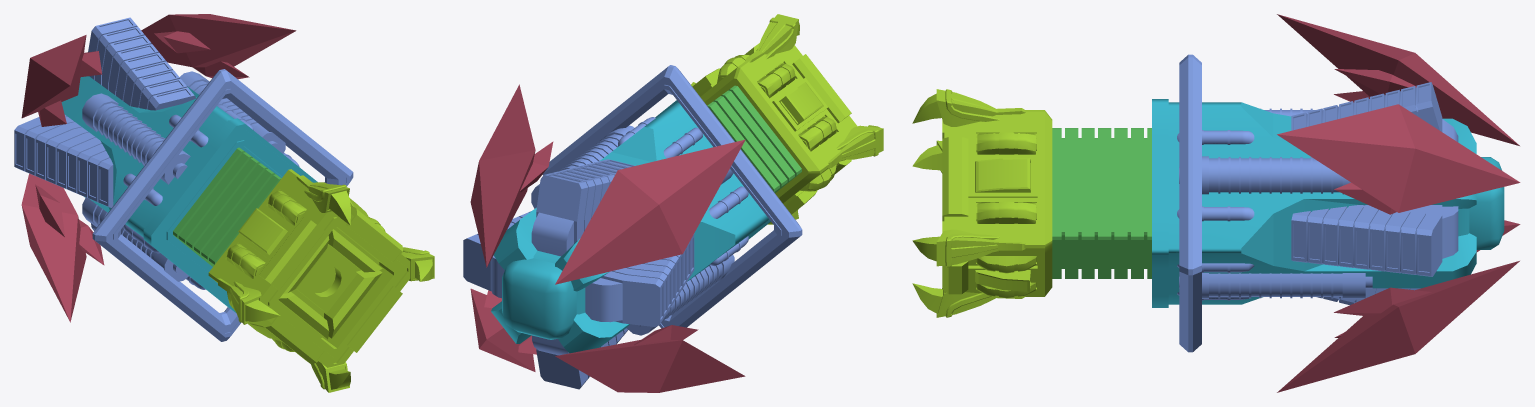
Rendered from Fbx_Boss_BFL_V4.fbx.
The picture shows the model from 3 angles, left to right: view 1: azimuth 30°, elevation 25°; view 2: azimuth 150°, elevation 25°; view 3: azimuth 270°, elevation 25°; orthographic projection. The views are drawn at different scales.
Visible parts, largest first — view 1: Body_Base, Hoop, Head_Base, Neck_Base, Battery_C, Battery_B, pCube78, pCube83, pCube55, pCylinder3, pCube82, Head_Bar_Center (+22 smaller); view 2: pCube82, Body_Base, Hoop, pCube83, pCube78, Head_Base, Battery_C, Battery_B, Body_Butt, Neck_Base, pCube55, pCube84 (+18 smaller); view 3: Body_Base, Neck_Base, pCube78, Battery_A, pCube84, Head_Base, Hoop, pCube82, pCube54, pCylinder1, pCylinder5, Battery_B (+16 smaller).
Boxes of the visible parts, x1=… form: Body_Base: x1=61, y1=76, x2=317, y2=312; Hoop: x1=92, y1=69, x2=353, y2=341; Head_Base: x1=208, y1=169, x2=410, y2=367; Neck_Base: x1=173, y1=147, x2=281, y2=266; Battery_C: x1=14, y1=115, x2=113, y2=207; Battery_B: x1=88, y1=17, x2=196, y2=110; pCube78: x1=141, y1=14, x2=296, y2=67; pCube83: x1=21, y1=173, x2=86, y2=322; pCube55: x1=238, y1=207, x2=325, y2=290; pCylinder3: x1=82, y1=93, x2=190, y2=184; pCube82: x1=21, y1=35, x2=86, y2=118; Head_Bar_Center: x1=296, y1=249, x2=356, y2=312; pCube82: x1=555, y1=139, x2=745, y2=284; Body_Base: x1=491, y1=100, x2=770, y2=353; Hoop: x1=542, y1=65, x2=802, y2=328; pCube83: x1=555, y1=340, x2=745, y2=392; pCube78: x1=470, y1=84, x2=535, y2=267; Head_Base: x1=700, y1=45, x2=857, y2=203; Battery_C: x1=585, y1=234, x2=694, y2=326; Battery_B: x1=531, y1=159, x2=634, y2=256; Body_Butt: x1=502, y1=258, x2=576, y2=339; Neck_Base: x1=707, y1=85, x2=801, y2=192; pCube55: x1=772, y1=54, x2=851, y2=131; pCube84: x1=470, y1=288, x2=535, y2=371; Body_Base: x1=1152, y1=99, x2=1476, y2=307; Neck_Base: x1=1052, y1=128, x2=1151, y2=278; pCube78: x1=1277, y1=104, x2=1520, y2=212; Battery_A: x1=1291, y1=205, x2=1458, y2=276; pCube84: x1=1277, y1=261, x2=1519, y2=392; Head_Base: x1=944, y1=110, x2=1052, y2=296; Hoop: x1=1179, y1=54, x2=1201, y2=352; pCube82: x1=1277, y1=14, x2=1519, y2=145; pCube54: x1=942, y1=137, x2=1037, y2=221; pCylinder1: x1=1179, y1=156, x2=1350, y2=194; pCylinder5: x1=1179, y1=273, x2=1372, y2=298; Battery_B: x1=1291, y1=82, x2=1458, y2=141.
Bounding box in the file's own units: 397 × 397 × 743.
